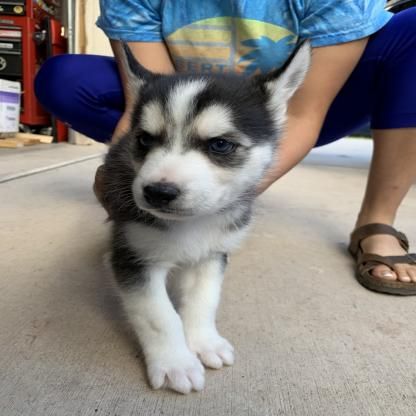husky: (92, 37, 309, 399)
